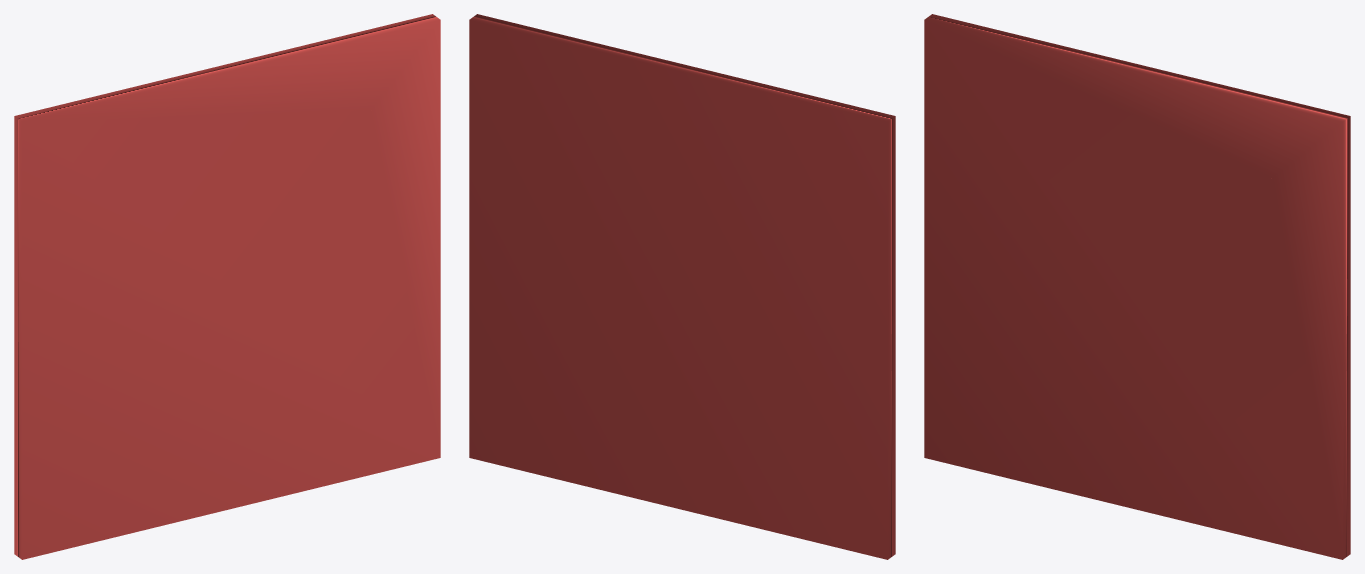
The model's file is expected.gltf.
The picture shows the model from 3 angles, left to right: view 1: azimuth 30°, elevation 25°; view 2: azimuth 150°, elevation 25°; view 3: azimuth 330°, elevation 25°; orthographic projection.
Size of the model in its own units: 300 by 300 by 12.
